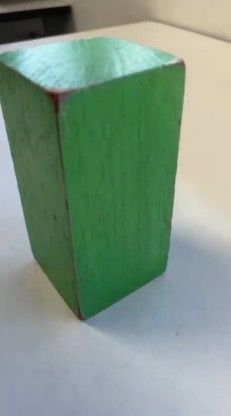green: (1, 32, 178, 318)
